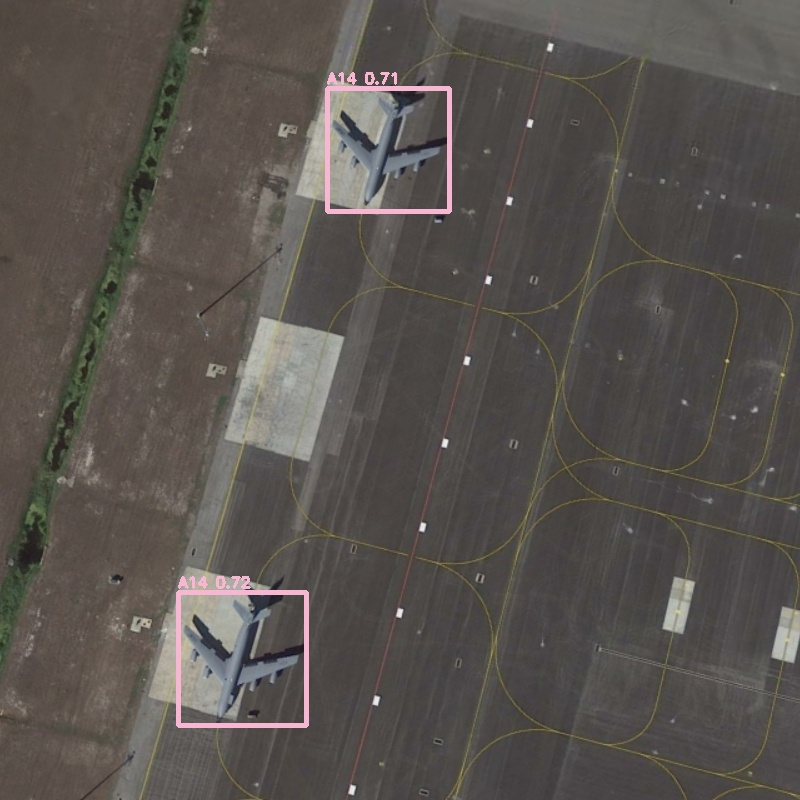A14: (178, 592, 306, 725), (327, 88, 449, 211)
